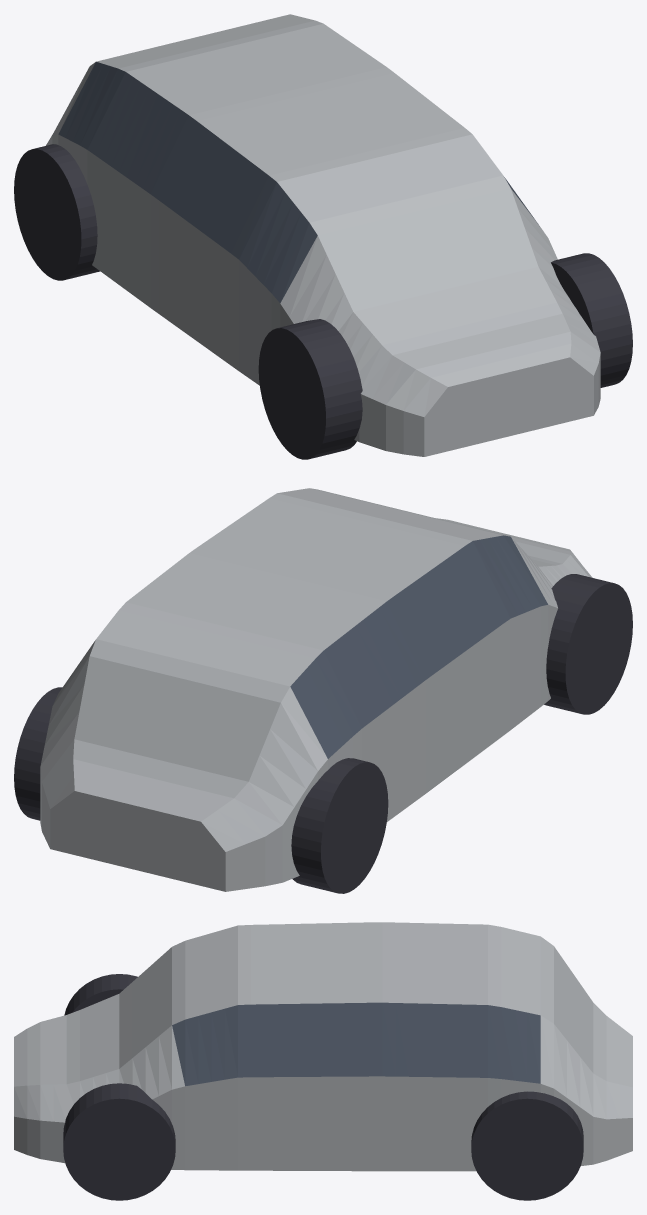
File: suv.glb
3 views of the same model, one above another, from view 1: azimuth 30°, elevation 25°; view 2: azimuth 150°, elevation 25°; view 3: azimuth 270°, elevation 25° (orthographic). The views are drawn at different scales.
Parts seen in each view (by area): view 1: world; view 2: world; view 3: world.
Part boxes in pixels (x1,y1,x2,y2): world: (14, 14, 632, 459); world: (14, 488, 632, 893); world: (14, 922, 632, 1200).
Bounding box in the file's own units: 2.1 × 1.38 × 4.4.
